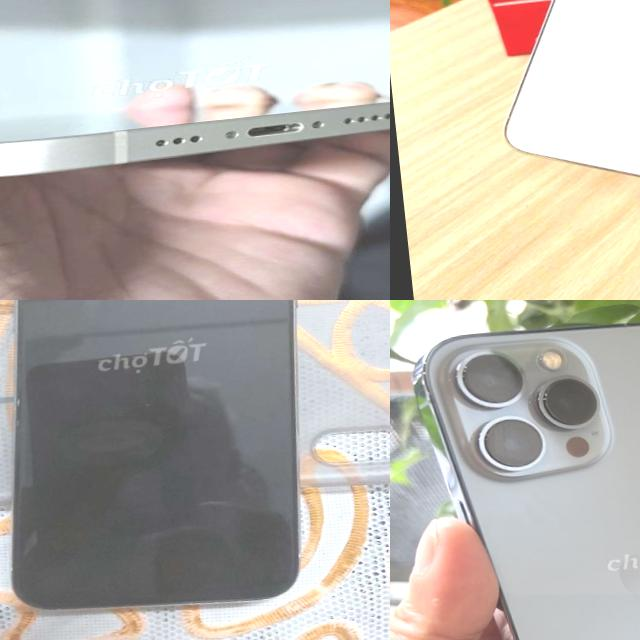gen_12_13: (413, 324, 640, 640), (466, 0, 640, 200)
gen_14: (0, 56, 390, 207)
gen_x_xs: (0, 300, 342, 635)
